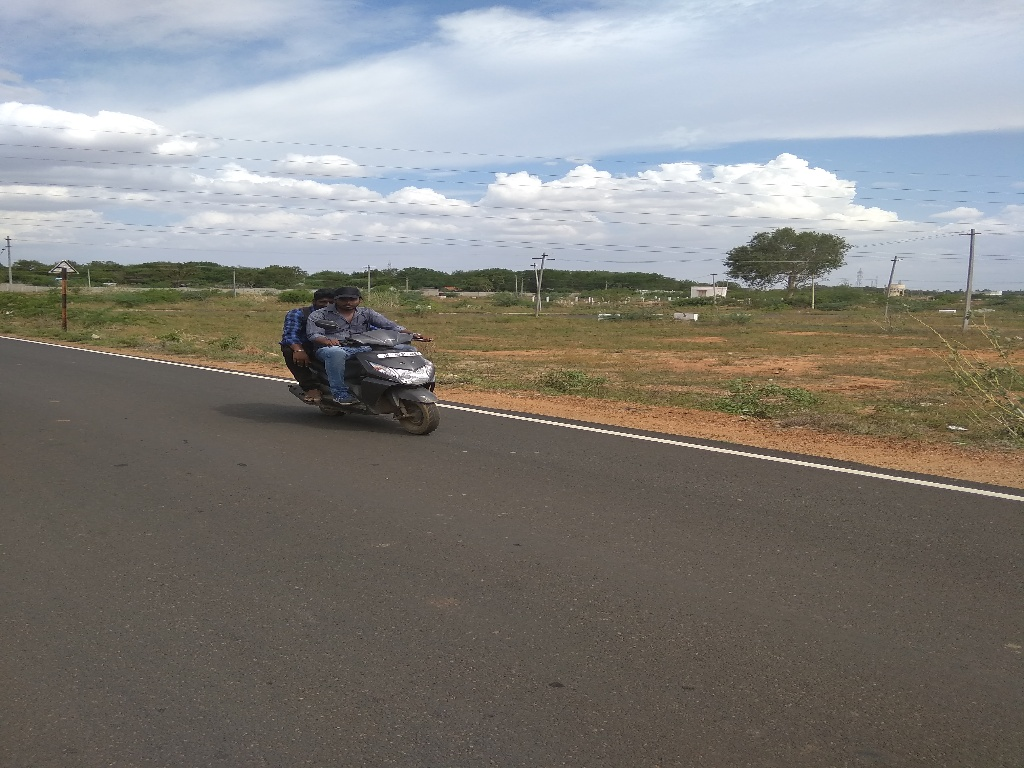biker: (272, 254, 455, 449)
nohelmet: (333, 281, 371, 322), (307, 280, 334, 317)
